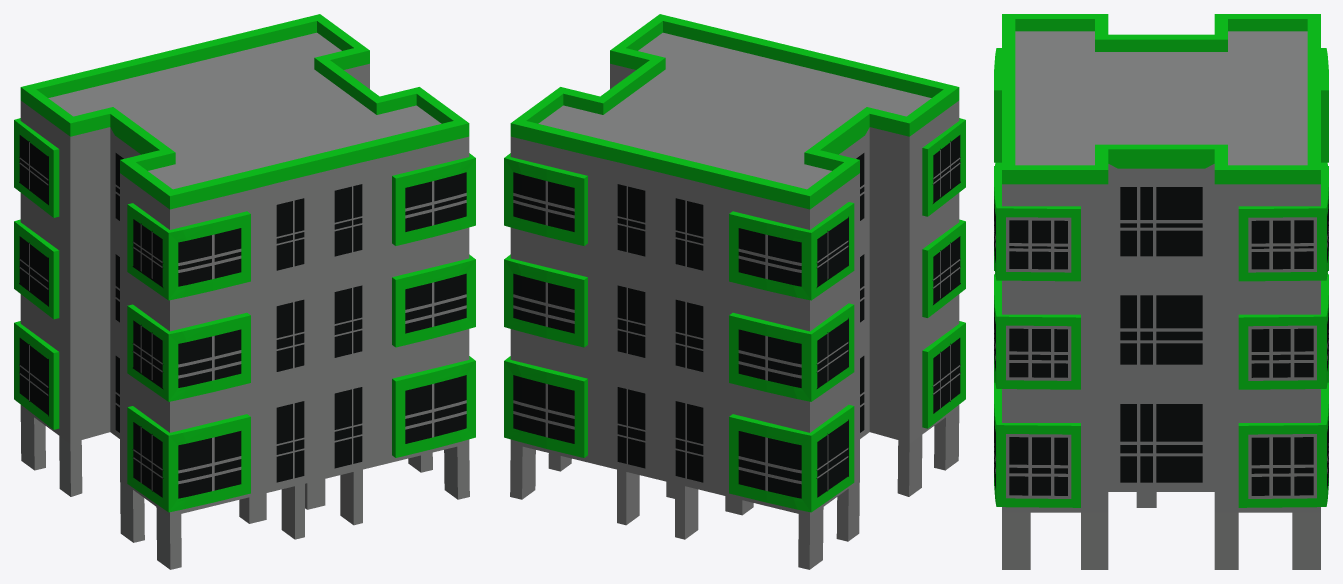
The model's file is apt-12.glb.
3 views of the same model, side by side, from view 1: azimuth 30°, elevation 25°; view 2: azimuth 150°, elevation 25°; view 3: azimuth 270°, elevation 25° (orthographic). The views are drawn at different scales.
Bounding box in the file's own units: 1.59 × 1.83 × 1.39.
